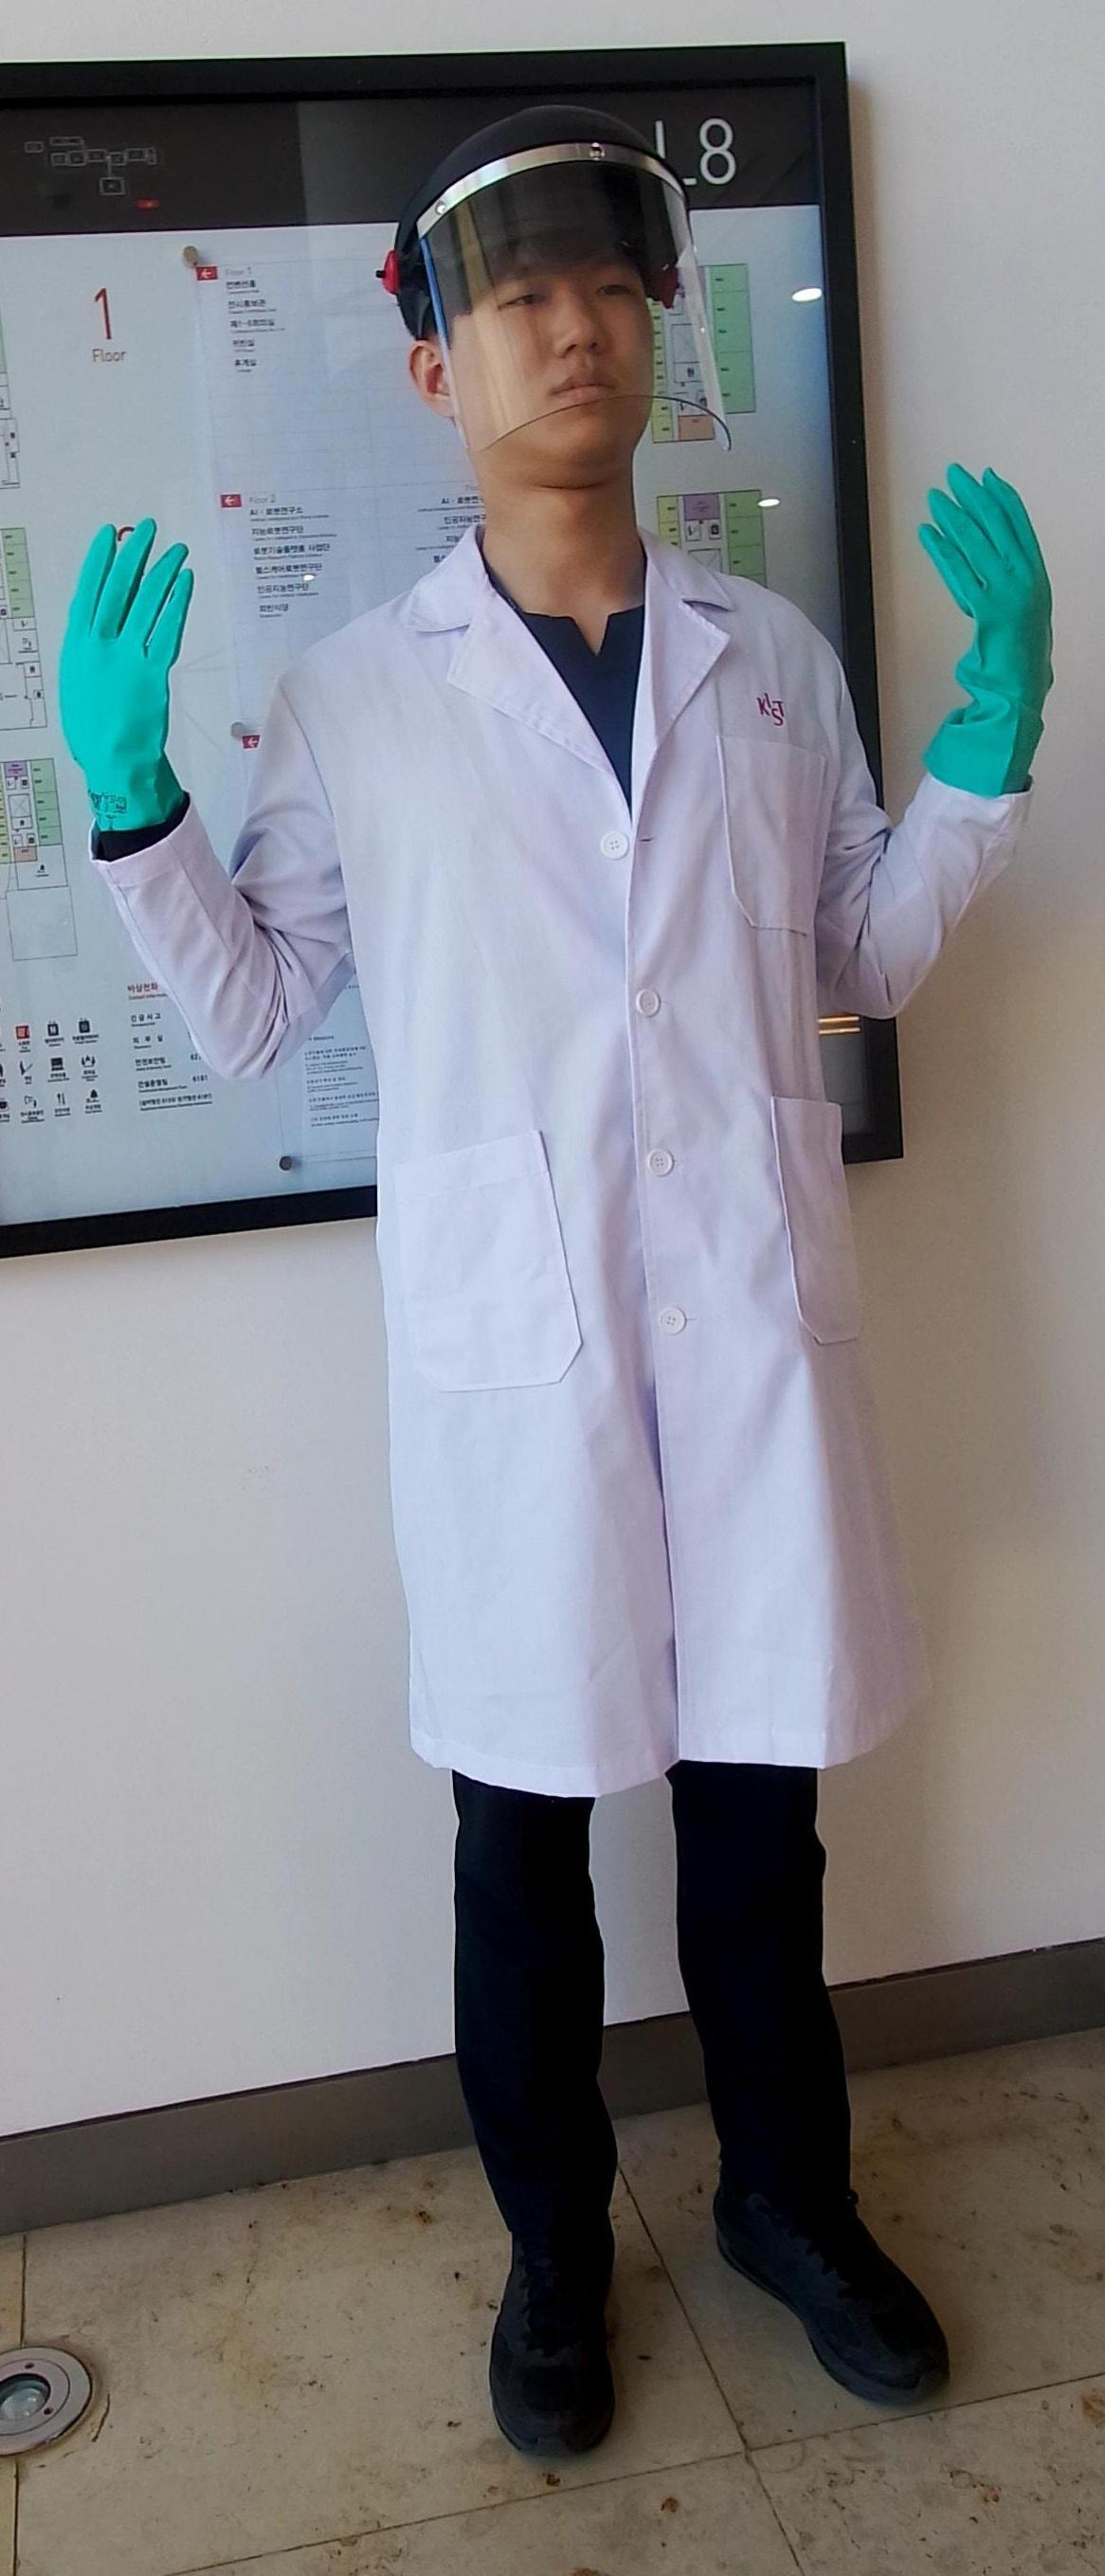lab_coat: (332, 618, 864, 1763)
